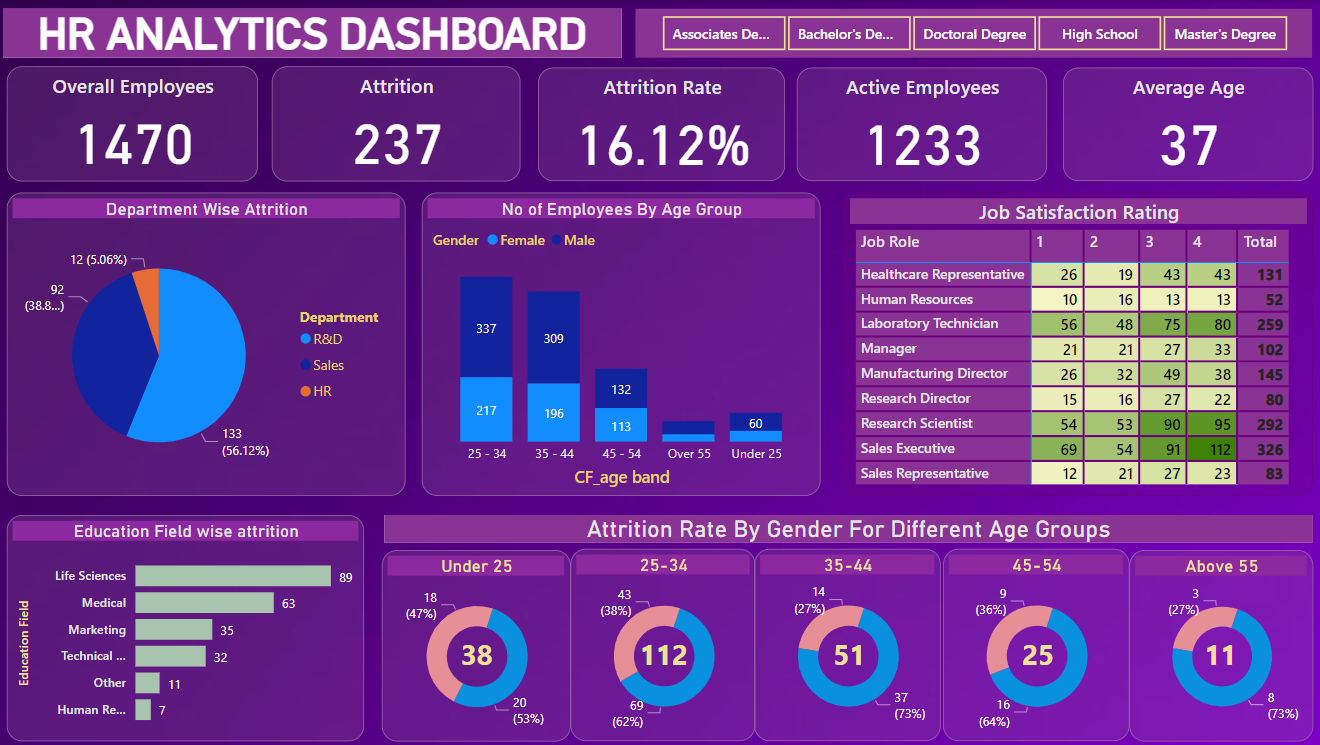

The page's visual inventory and layout, read from the dashboard file:
{"tool":"powerbi","page":{"name":"Page 1","canvas":[1280,720],"ordinal":0},"visuals":[{"type":"card","title":"Overall Employees","fields":{"Values":["Sum(HR data.Employee Count)"]},"box":[8.4,63.9,242.4,111],"z":0},{"type":"card","title":"Attrition","fields":{"Values":["Sum(HR data.Attrition Count)"]},"box":[264.1,63.9,240,111],"z":1000},{"type":"card","title":"Attrition Rate","fields":{"Values":["HR data.Attrition Rate"]},"box":[521,65.1,238.8,109.7],"z":2000},{"type":"card","title":"Active Employees","fields":{"Values":["HR data.Active Employees"]},"box":[770.7,65.1,241.2,109.7],"z":3000},{"type":"card","title":"Average Age","fields":{"Values":["Avg(HR data.Age)"]},"box":[1027.5,65.1,241.2,109.7],"z":4000},{"type":"pieChart","title":"Department Wise Attrition","fields":{"Category":["HR data.Department"],"Y":["Sum(HR data.Attrition Count)"]},"box":[8.4,185.7,384.7,293.1],"z":5000},{"type":"columnChart","title":"No of Employees By Age Group","fields":{"Category":["HR data.CF_age band"],"Y":["Sum(HR data.Employee Count)"],"Series":["HR data.Gender"]},"box":[408.8,185.7,384.7,293.1],"z":6000},{"type":"pivotTable","title":"Job Satisfaction Rating","fields":{"Rows":["HR data.Job Role"],"Columns":["HR data.Job Satisfaction"],"Values":["Sum(HR data.Employee Count)"]},"box":[816.5,185.7,452.3,293.1],"z":7000},{"type":"barChart","title":"Education Field wise attrition","fields":{"Category":["HR data.Education Field"],"Y":["Sum(HR data.Attrition Count)"]},"box":[8.4,496.9,344.9,218.3],"z":8000},{"type":"donutChart","title":"Under 25","fields":{"Category":["HR data.Gender"],"Y":["Sum(HR data.Attrition Count)"],"Series":["HR data.CF_age band"]},"box":[370.3,530.7,182.1,184.5],"z":9000},{"type":"textbox","title":"Attrition Rate By Gender For Different Age Groups","box":[372.7,496.9,896.1,26.5],"z":10000},{"type":"donutChart","title":"25-34","fields":{"Category":["HR data.Gender"],"Y":["Sum(HR data.Attrition Count)"],"Series":["HR data.CF_age band"]},"box":[552.4,529.4,178.5,185.7],"z":11000},{"type":"donutChart","title":"35-44","fields":{"Category":["HR data.Gender"],"Y":["Sum(HR data.Attrition Count)"],"Series":["HR data.CF_age band"]},"box":[729.6,529.4,179.7,185.7],"z":12000},{"type":"donutChart","title":"45-54","fields":{"Category":["HR data.Gender"],"Y":["Sum(HR data.Attrition Count)"],"Series":["HR data.CF_age band"]},"box":[911.8,529.4,179.7,185.7],"z":13000},{"type":"donutChart","title":"Above 55","fields":{"Category":["HR data.Gender"],"Y":["Sum(HR data.Attrition Count)"],"Series":["HR data.CF_age band"]},"box":[1091.5,530.7,177.3,184.5],"z":14000},{"type":"card","fields":{"Values":["Sum(HR data.Attrition Count)"]},"box":[434.2,606.6,55.5,50.7],"z":15000},{"type":"card","fields":{"Values":["Sum(HR data.Attrition Count)"]},"box":[605.4,606.6,73.6,50.7],"z":16000},{"type":"card","fields":{"Values":["Sum(HR data.Attrition Count)"]},"box":[797.2,606.6,48.2,50.7],"z":17000},{"type":"card","fields":{"Values":["Sum(HR data.Attrition Count)"]},"box":[979.3,606.6,48.2,50.7],"z":18000},{"type":"card","fields":{"Values":["Sum(HR data.Attrition Count)"]},"box":[1155.4,606.6,48.2,50.7],"z":19000},{"type":"textbox","title":"HR ANALYTICS DASHBOARD","box":[4.8,8.4,597,47],"z":20000},{"type":"slicer","fields":{"Values":["HR data.Education"]},"box":[615.1,8.4,652.5,47],"z":21000}]}

Visuals, with their boxes in screenshot pixels (x1, y1, x2, y2), scaled from the page's 1280x720 canvas onto the 1320x745 screenshot:
"Overall Employees" card: locate(9, 66, 259, 181)
"Attrition" card: locate(272, 66, 520, 181)
"Attrition Rate" card: locate(537, 67, 784, 181)
"Active Employees" card: locate(795, 67, 1044, 181)
"Average Age" card: locate(1060, 67, 1308, 181)
"Department Wise Attrition" pieChart: locate(9, 192, 405, 495)
"No of Employees By Age Group" columnChart: locate(422, 192, 818, 495)
"Job Satisfaction Rating" pivotTable: locate(842, 192, 1308, 495)
"Education Field wise attrition" barChart: locate(9, 514, 364, 740)
"Under 25" donutChart: locate(382, 549, 570, 740)
"Attrition Rate By Gender For Different Age Groups" textbox: locate(384, 514, 1308, 542)
"25-34" donutChart: locate(570, 548, 754, 740)
"35-44" donutChart: locate(752, 548, 938, 740)
"45-54" donutChart: locate(940, 548, 1126, 740)
"Above 55" donutChart: locate(1126, 549, 1308, 740)
card - Sum(HR data.Attrition Count): locate(448, 628, 505, 680)
card - Sum(HR data.Attrition Count): locate(624, 628, 700, 680)
card - Sum(HR data.Attrition Count): locate(822, 628, 872, 680)
card - Sum(HR data.Attrition Count): locate(1010, 628, 1060, 680)
card - Sum(HR data.Attrition Count): locate(1192, 628, 1241, 680)
"HR ANALYTICS DASHBOARD" textbox: locate(5, 9, 621, 57)
slicer - HR data.Education: locate(634, 9, 1307, 57)
